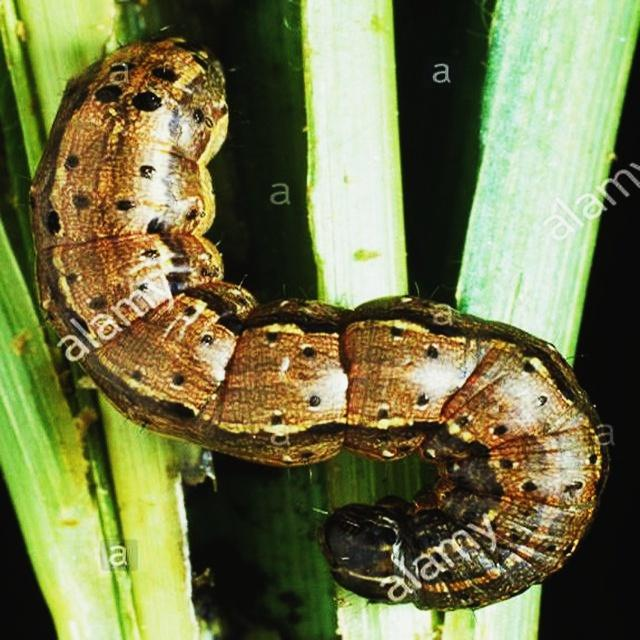Plaga: (24, 26, 617, 613)
